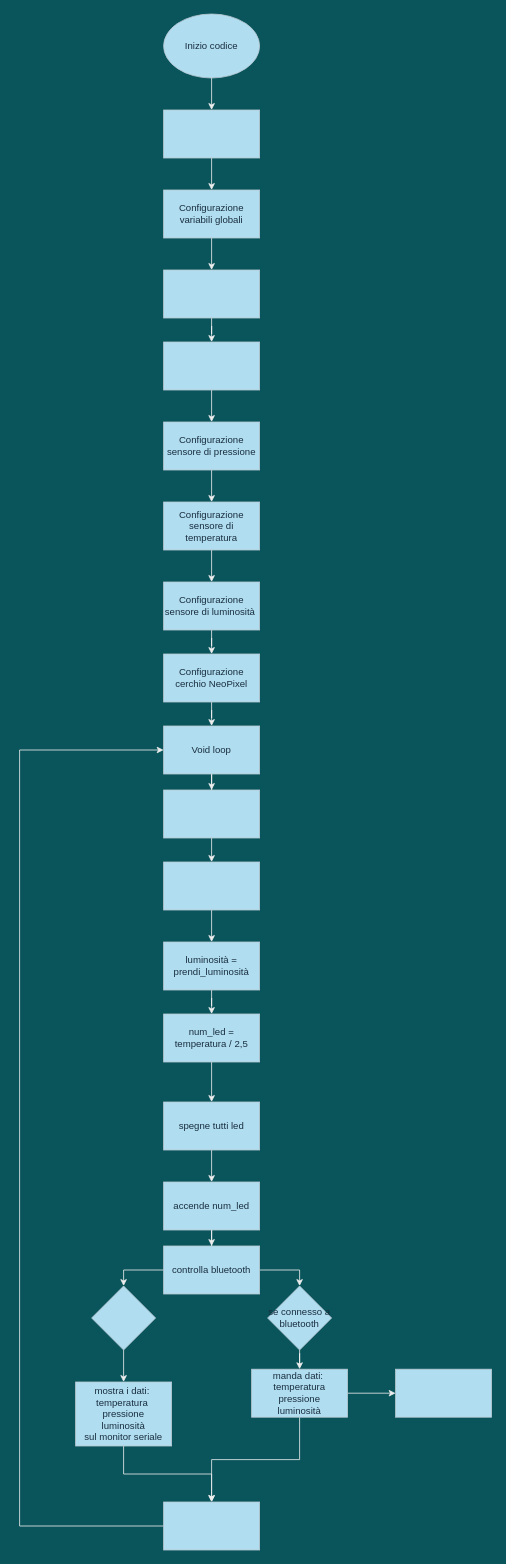
The diagram is 506 pixels wide and 1564 high, and some of its shapes have lost their labels. The shapes that lost their labels are listed below. From the top down, each one's centre as x and y in pixels, then its label:
the point at 211,133: inclusione librerie
the point at 211,293: Void Setup
the point at 211,365: Configurazione modulo bluetooth
the point at 211,813: temperatura = Controlla temperatura
the point at 211,885: pressione = prendi_pressione
the point at 123,1317: se non è connesso
the point at 443,1392: L'app mostra i dati
the point at 211,1525: delay(1000)
